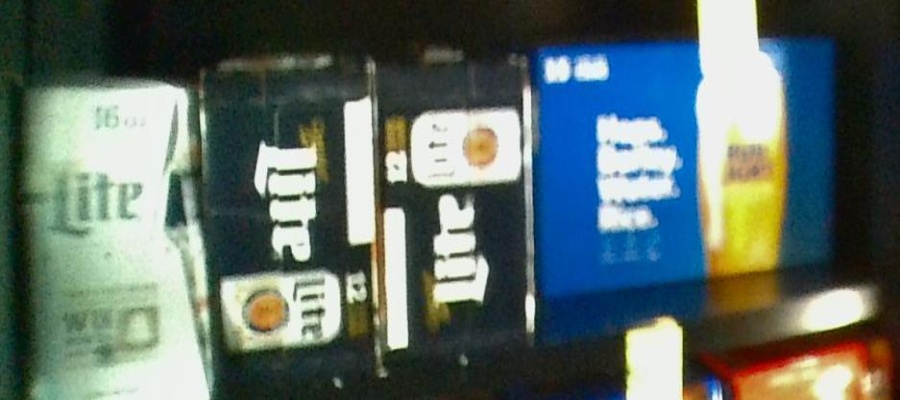bottle: (538, 39, 839, 280), (17, 84, 198, 396), (207, 63, 375, 384), (376, 57, 534, 344)
